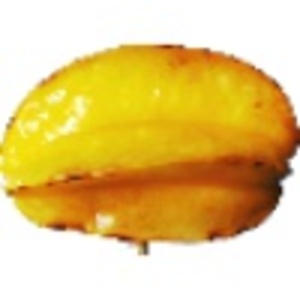carambola: (1, 42, 300, 258)
